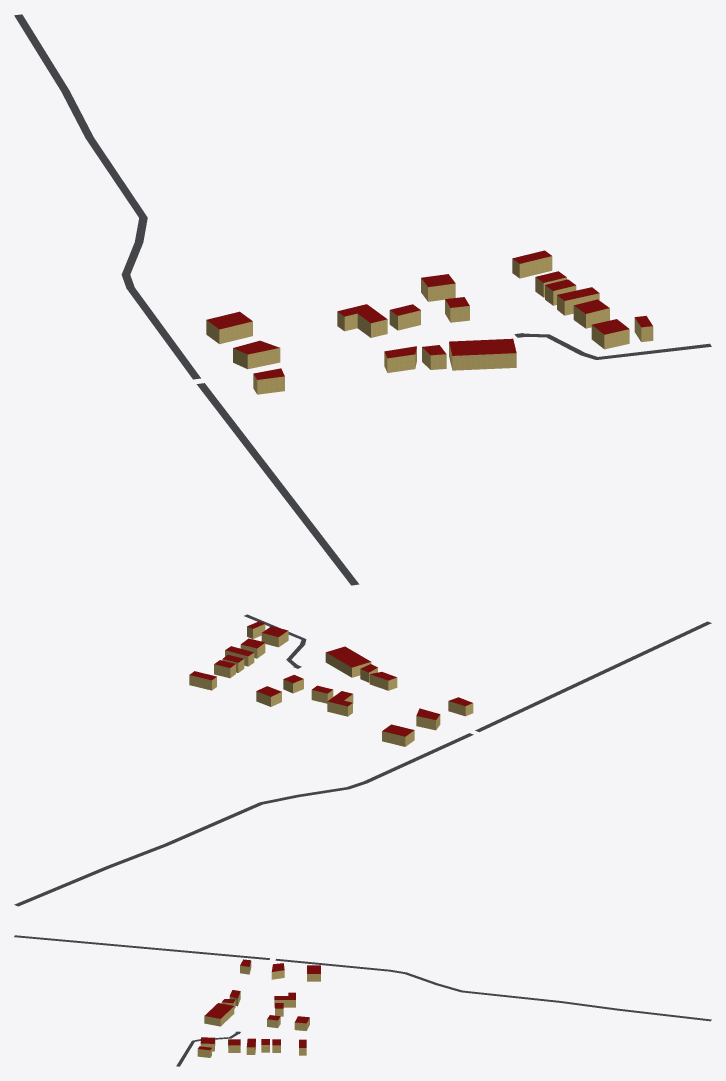
File: district_-2_-3.glb
3 views of the same model, one above another, from view 1: azimuth 30°, elevation 25°; view 2: azimuth 150°, elevation 25°; view 3: azimuth 270°, elevation 25° (orthographic). The views are drawn at different scales.
Visible parts, largest first — view 1: Road улица Чехова, Building w44036755, Building w44036801, Building w44036851, Building w625328560, Building w44036738; view 2: Road улица Чехова, Building w44036755, Building w44036851, Building w44036801; view 3: Road улица Чехова, Building w44036755, Building w44036801, Building w44036851.
Boxes of the visible parts, left/top/right/bottom form: Road улица Чехова: left=14, top=14, right=359, bottom=585; Building w44036755: left=449, top=338, right=516, bottom=370; Building w44036801: left=337, top=304, right=387, bottom=337; Building w44036851: left=206, top=311, right=252, bottom=344; Building w625328560: left=233, top=340, right=280, bottom=369; Building w44036738: left=591, top=319, right=629, bottom=349; Road улица Чехова: left=14, top=621, right=711, bottom=906; Building w44036755: left=325, top=646, right=371, bottom=677; Building w44036851: left=382, top=724, right=414, bottom=746; Building w44036801: left=327, top=691, right=353, bottom=716; Road улица Чехова: left=14, top=935, right=711, bottom=1021; Building w44036755: left=204, top=1003, right=234, bottom=1026; Building w44036801: left=274, top=992, right=295, bottom=1007; Building w44036851: left=307, top=965, right=320, bottom=981.
Bounding box in the file's own units: 275 × 7.5 × 618.
Materials: 3 (3 with a texture image).
